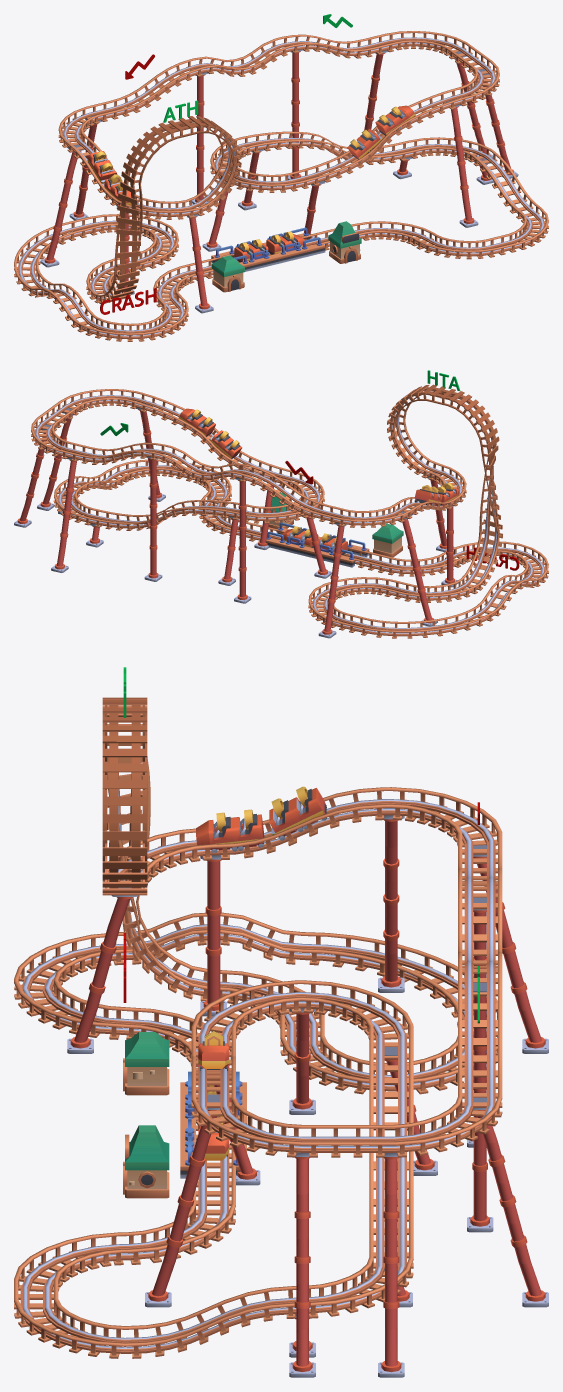
File: CryptoPriceTrackerPreview-transformed.glb
The picture shows the model from 3 angles, top to bottom: view 1: azimuth 30°, elevation 25°; view 2: azimuth 150°, elevation 25°; view 3: azimuth 270°, elevation 25°; orthographic projection. The views are drawn at different scales.
Parts seen in each view (by area): view 1: ride-entrance, coin-gold, MeshInstance3D3; view 2: ride-entrance, coin-gold; view 3: ride-entrance, coin-gold.
Part boxes in pixels (x1,y1,x2,y2): ride-entrance: (14, 31, 548, 341); coin-gold: (95, 106, 401, 252); MeshInstance3D3: (100, 288, 156, 314); ride-entrance: (14, 384, 548, 638); coin-gold: (192, 409, 453, 545); ride-entrance: (14, 697, 548, 1377); coin-gold: (204, 786, 307, 1124).
Bounding box in the file's own units: 17.29 × 6.73 × 9.04.
Materials: 4 (2 with a texture image).
